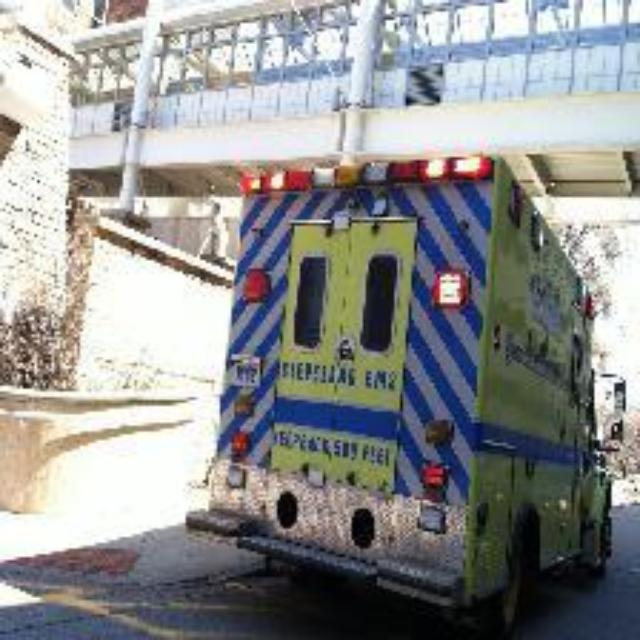emergency: (190, 152, 622, 634)
